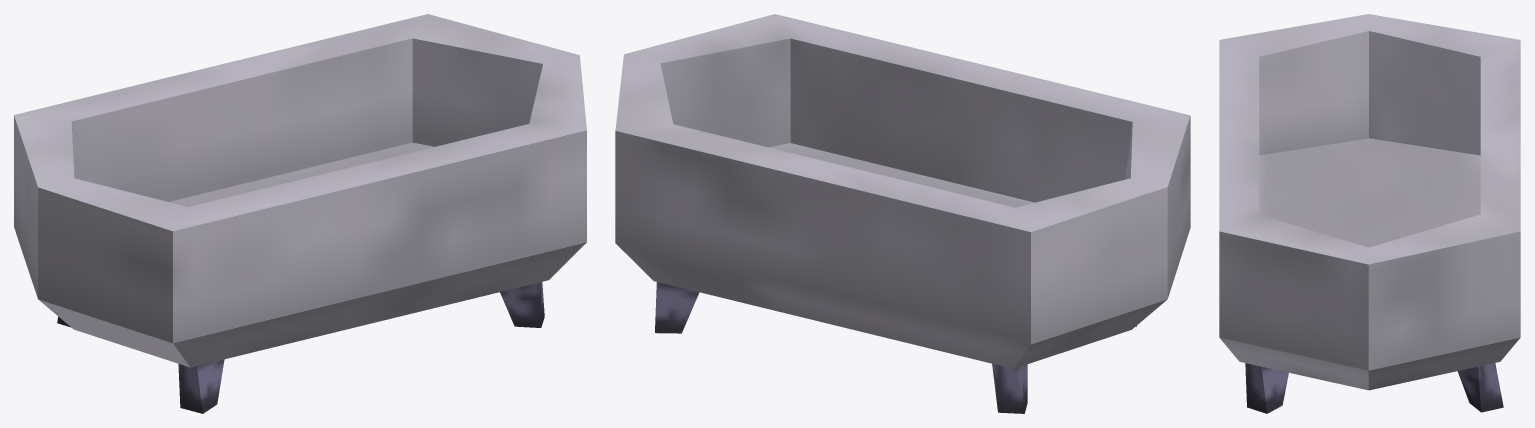
The model's file is bathtub.fbx.
3 views of the same model, side by side, from view 1: azimuth 30°, elevation 25°; view 2: azimuth 150°, elevation 25°; view 3: azimuth 270°, elevation 25° (orthographic). The views are drawn at different scales.
Parts seen in each view (by area): view 1: vana; view 2: vana; view 3: vana.
Part boxes in pixels (bbox=[...]): vana: bbox=[14, 14, 586, 413]; vana: bbox=[615, 14, 1190, 413]; vana: bbox=[1219, 14, 1520, 413].
Size of the model in its own units: 194 by 68.77 by 98.64.
